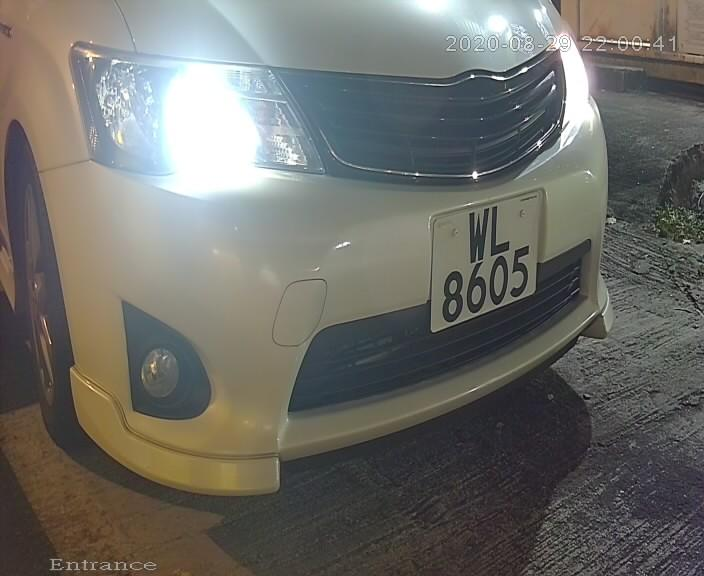License Plate: (419, 180, 547, 348)
